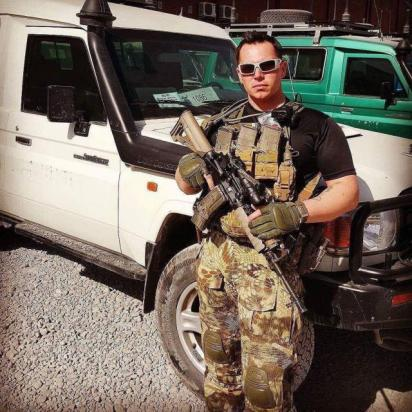Gun: (168, 107, 309, 317)
